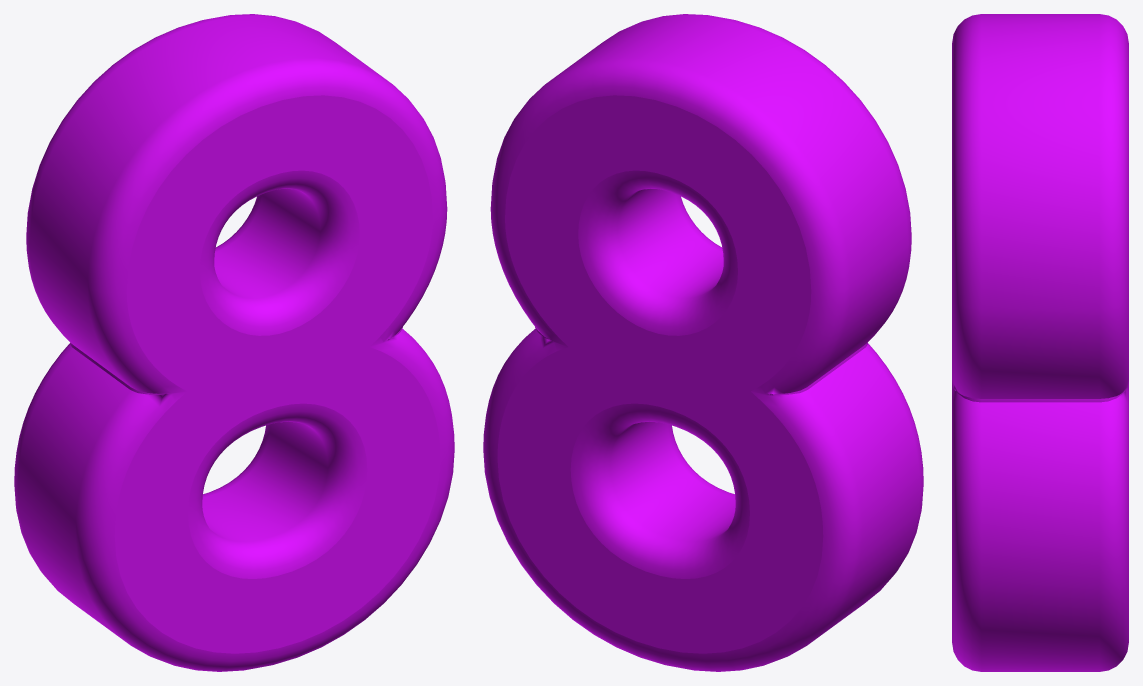
3 renders of one model, left to right at view 1: azimuth 30°, elevation 25°; view 2: azimuth 150°, elevation 25°; view 3: azimuth 270°, elevation 25°, orthographic. The views are drawn at different scales.
Visible parts, largest first — view 1: Text; view 2: Text; view 3: Text.
Part boxes in pixels (x1=…): Text: x1=14, y1=14, x2=454, y2=671; Text: x1=483, y1=14, x2=923, y2=671; Text: x1=952, y1=14, x2=1128, y2=671.
Size of the model in its own units: 1.51 by 2.3 by 0.6.
